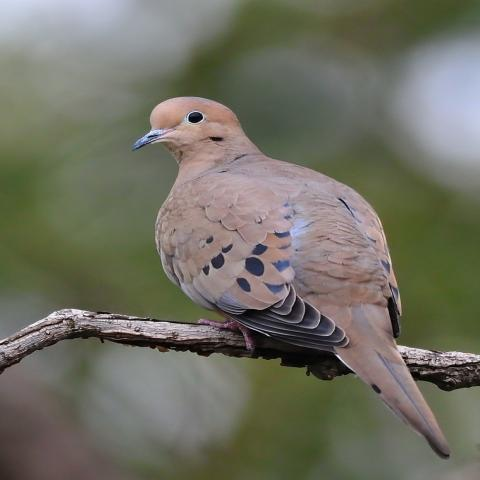bird: (129, 94, 452, 460)
